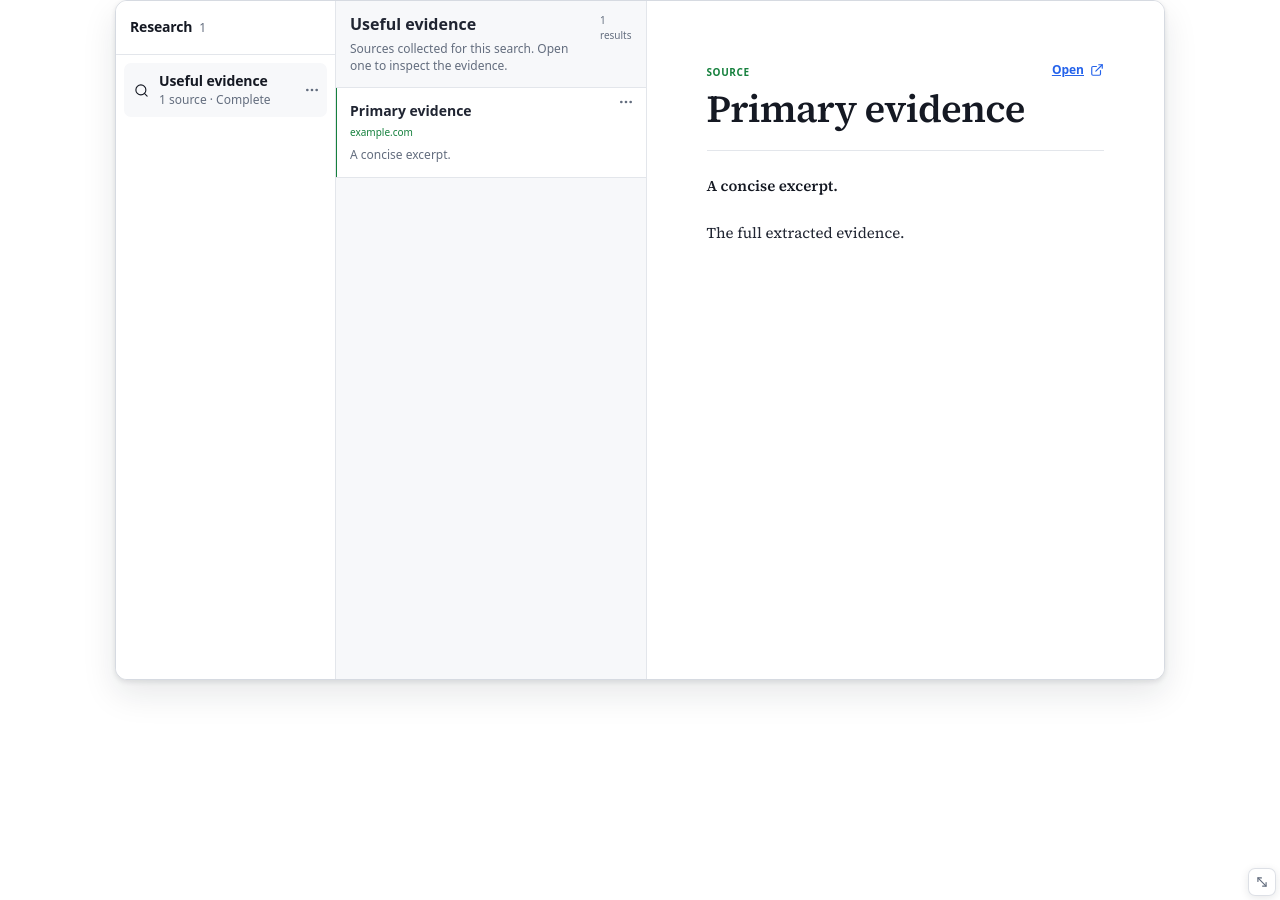
Test: ResearchWorkspace actions › offers download and delete actions for every saved search and individual result
Click the button named "More options for saved search Useful evidence": (312, 90) [304, 82, 320, 98]
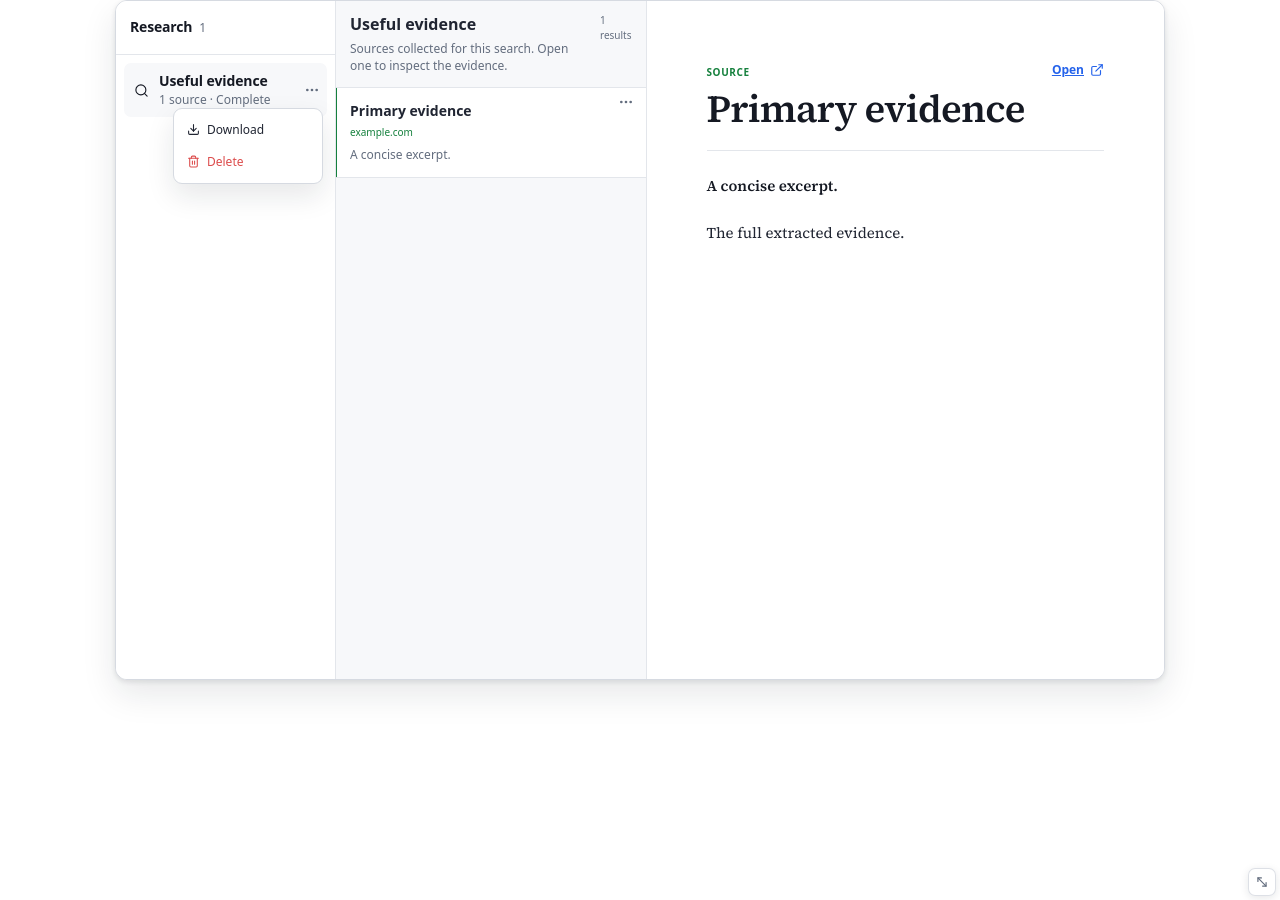
Check: the button with aria-label "Download saved search" is shown, box [179, 114, 317, 146]
Check: the button with aria-label "Delete saved search" is shown, box [179, 146, 317, 178]
Click the button named "More options for result Primary evidence": (626, 102) [618, 94, 634, 110]
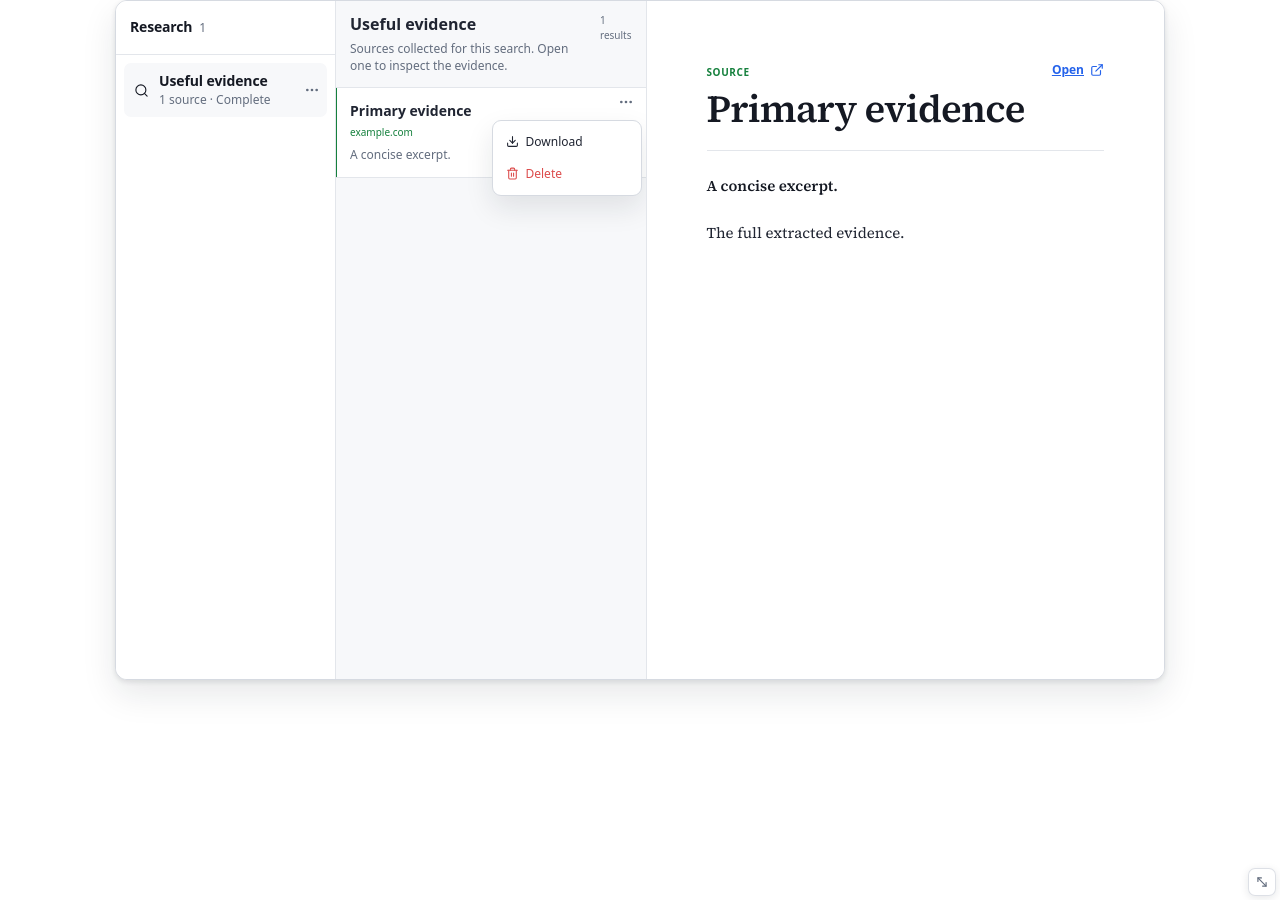
Check: the button with aria-label "Download result" is shown, box [498, 126, 636, 158]
Click the button with aria-label "Delete result": (566, 174) [498, 158, 636, 190]
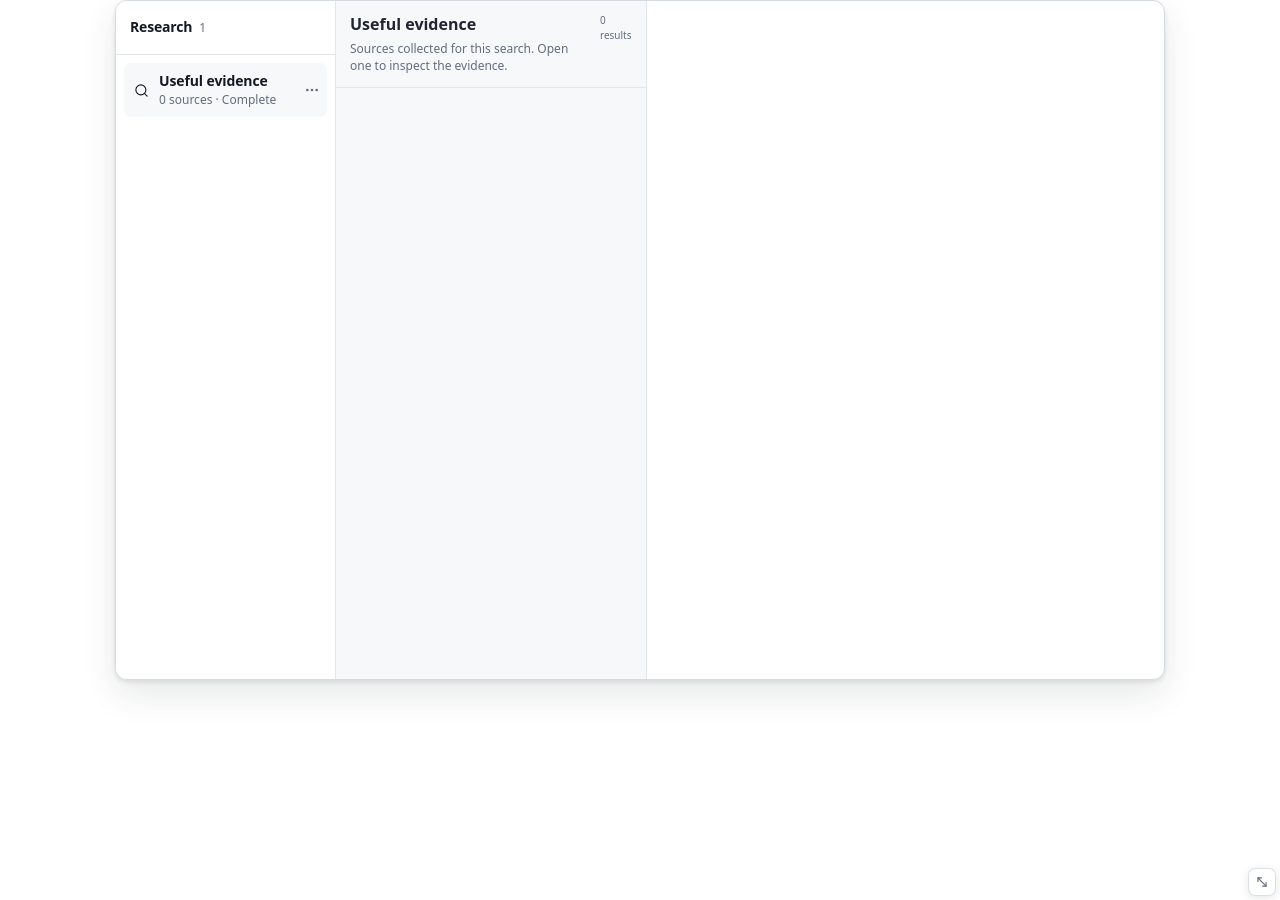
Check: the button "Primary evidence" is gone
Check: the text "0 results" is shown, box [600, 13, 632, 42]
